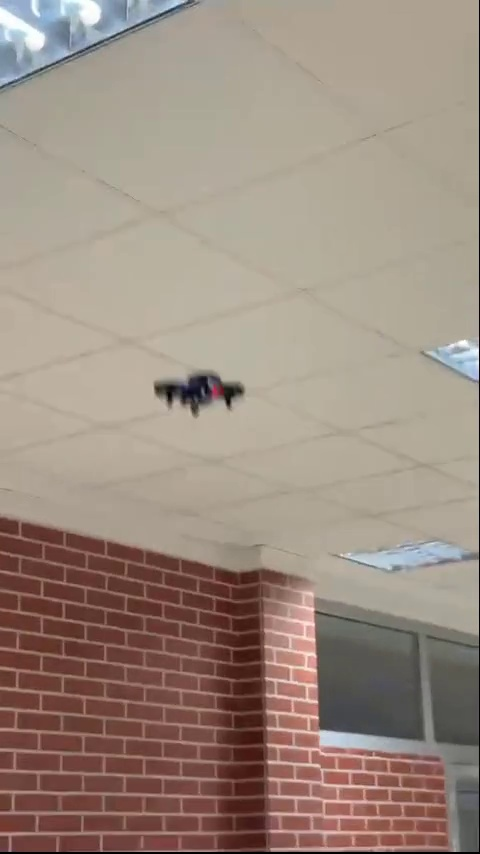drone: (152, 373, 247, 412)
